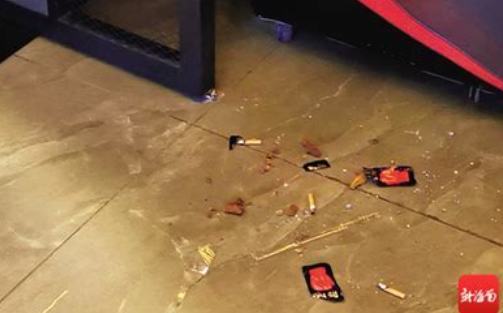garbage: (177, 242, 218, 313), (344, 163, 431, 193), (300, 257, 348, 307), (295, 137, 330, 171), (376, 276, 415, 306), (212, 193, 252, 221), (225, 129, 266, 153), (267, 202, 318, 220), (260, 147, 281, 178), (304, 189, 323, 217), (341, 200, 351, 217)
